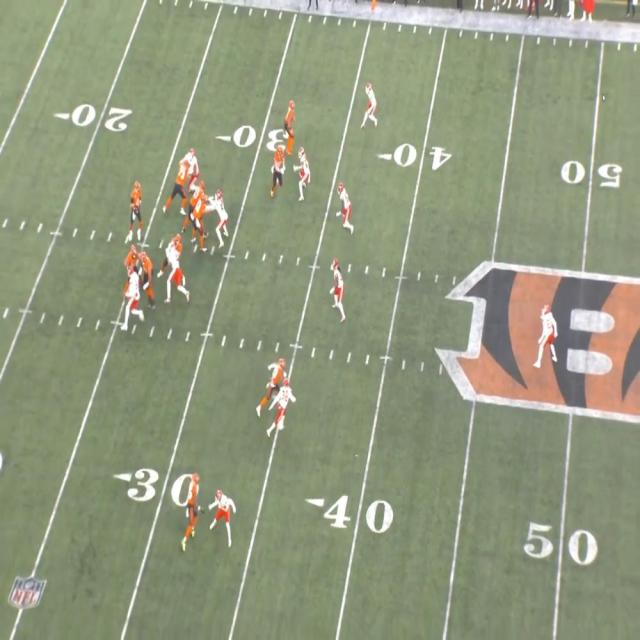db: (182, 474, 205, 540), (536, 306, 558, 365), (272, 379, 294, 432), (212, 488, 234, 537), (294, 147, 310, 201), (366, 84, 379, 128)
lb: (328, 264, 344, 314), (336, 186, 350, 231)
qb: (130, 182, 142, 225)
skill: (266, 363, 289, 399), (271, 147, 286, 202), (124, 247, 138, 300), (282, 99, 295, 154)
